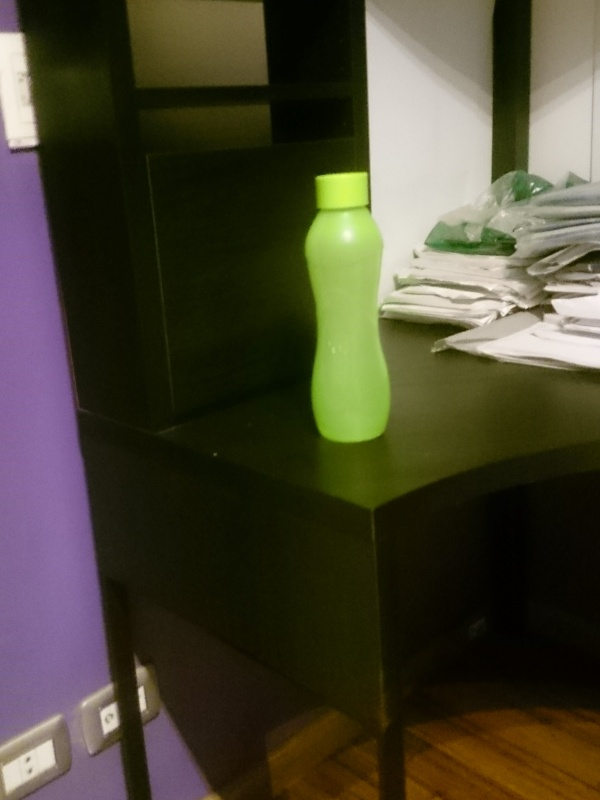my bottle: (304, 172, 392, 443)
